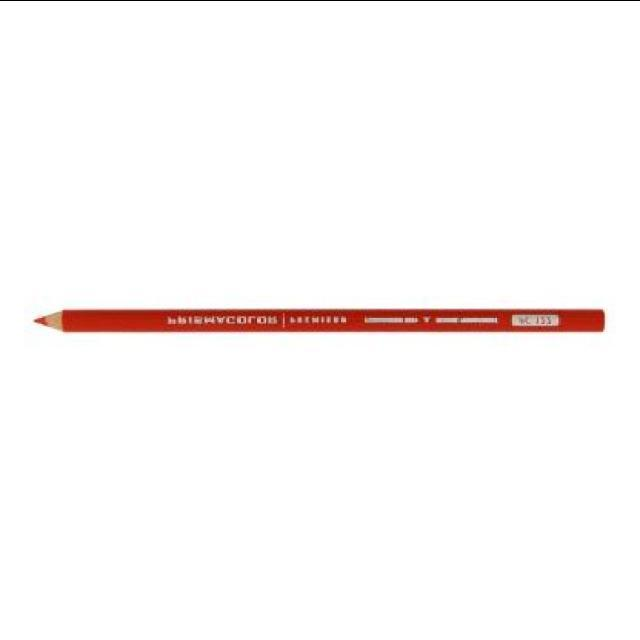pencil: (26, 300, 90, 342)
